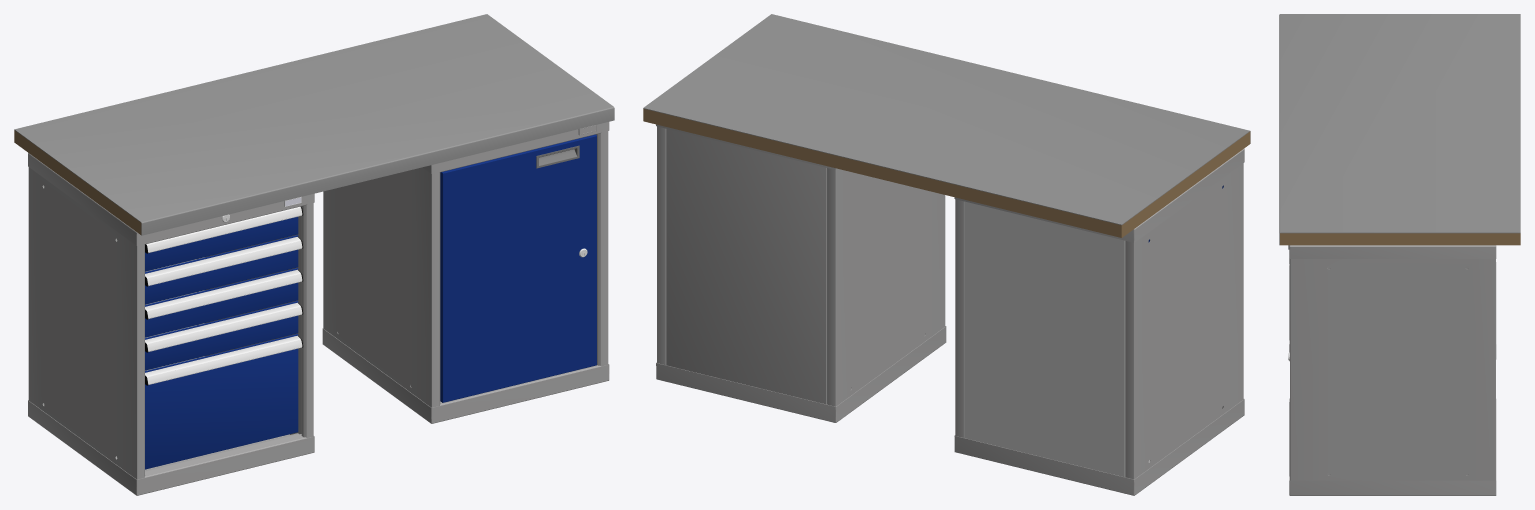
The picture shows the model from 3 angles, left to right: view 1: azimuth 30°, elevation 25°; view 2: azimuth 150°, elevation 25°; view 3: azimuth 270°, elevation 25°; orthographic projection. The views are drawn at different scales.
Visible parts, largest first — view 1: FbxMesh (×6); view 2: FbxMesh (×5); view 3: FbxMesh (×3).
Boxes of the visible parts, x1=… form: FbxMesh (×6): x1=14, y1=14, x2=614, y2=495; FbxMesh (×5): x1=643, y1=14, x2=1250, y2=495; FbxMesh (×3): x1=1279, y1=14, x2=1520, y2=495.
Bounding box in the file's own units: 150 × 84.22 × 70.
